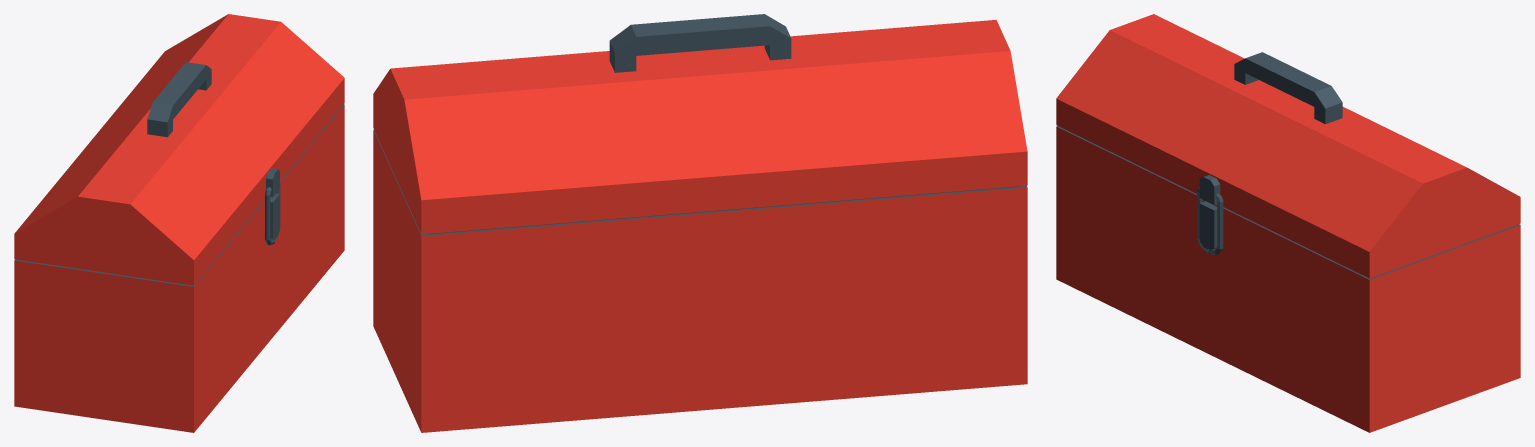
File: tools.glb
3 renders of one model, left to right at view 1: azimuth 30°, elevation 25°; view 2: azimuth 150°, elevation 25°; view 3: azimuth 270°, elevation 25°, orthographic. The views are drawn at different scales.
Parts seen in each view (by area): view 1: Tool_box_Cube.026; view 2: Tool_box_Cube.026; view 3: Tool_box_Cube.026.
Part boxes in pixels (x1,y1,x2,y2): Tool_box_Cube.026: (14,14,344,432); Tool_box_Cube.026: (373,14,1027,432); Tool_box_Cube.026: (1056,14,1520,432).
Size of the model in its own units: 7.02 by 4.03 by 6.61.
